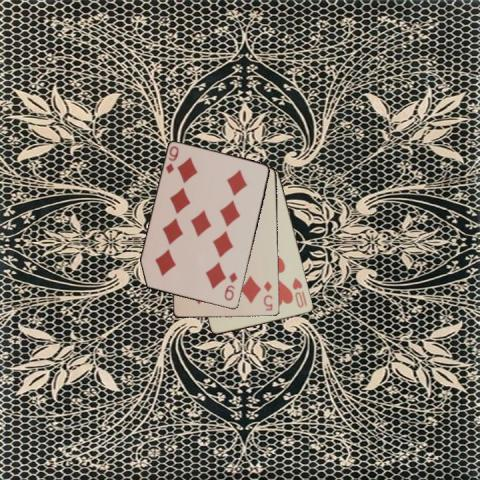10h: (289, 275, 309, 309)
5d: (261, 278, 274, 312)
9d: (221, 269, 239, 302), (163, 144, 180, 176)
